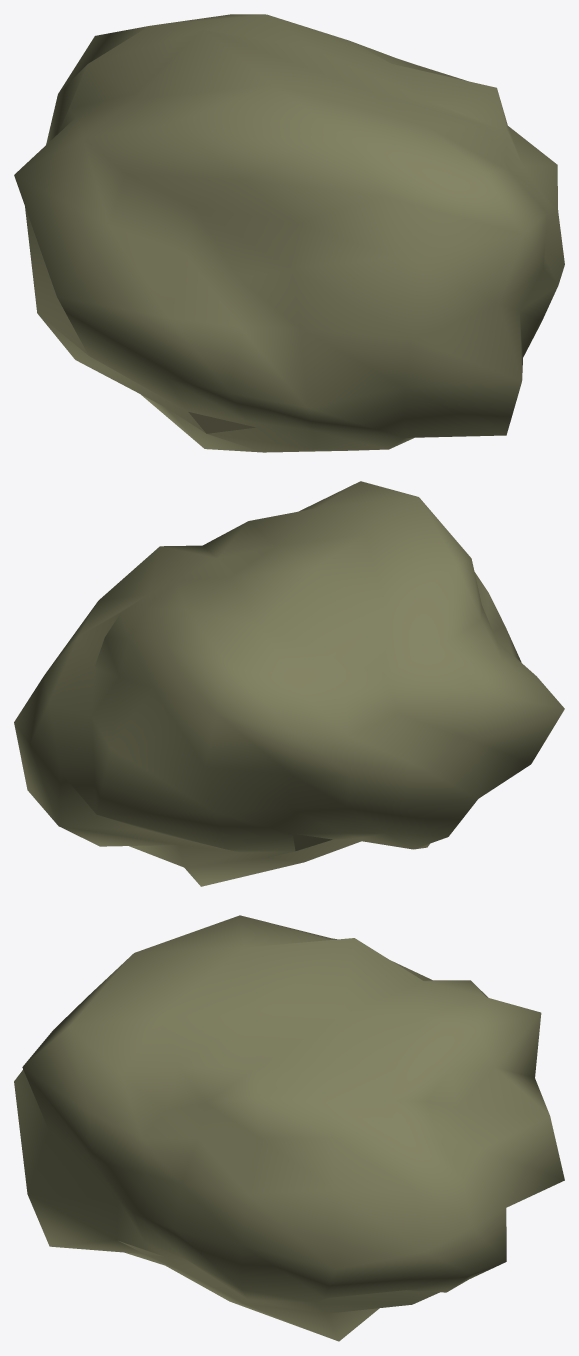
The model's file is rock06small.fbx.
3 views of the same model, one above another, from view 1: azimuth 30°, elevation 25°; view 2: azimuth 150°, elevation 25°; view 3: azimuth 270°, elevation 25° (orthographic). The views are drawn at different scales.
Visible parts, largest first — view 1: rock06small; view 2: rock06small; view 3: rock06small.
Boxes of the visible parts, <box> form: rock06small: <box>14,14,564,452</box>; rock06small: <box>14,481,564,886</box>; rock06small: <box>14,915,564,1341</box>.
Bounding box in the file's own units: 0.4812 × 0.3407 × 0.4918.
